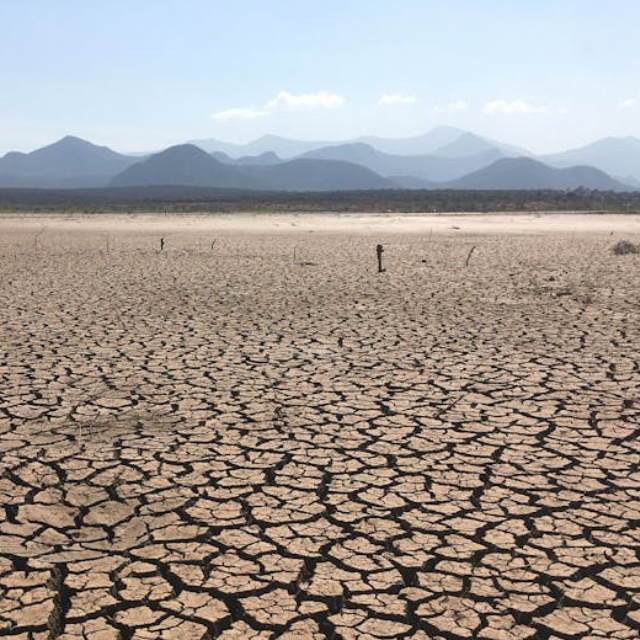网状裂隙: (92, 0, 425, 461), (0, 0, 366, 388), (226, 0, 493, 446), (0, 0, 209, 467), (301, 0, 531, 354), (309, 45, 432, 483), (544, 0, 640, 392)
